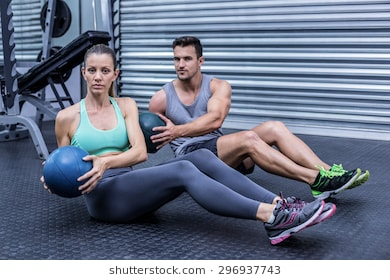blue ball: (44, 147, 93, 197), (138, 113, 167, 153)
